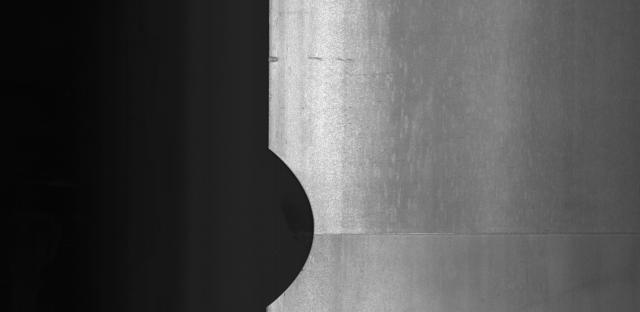crescent_gap: (251, 140, 320, 312)
welding_line: (312, 228, 640, 253)
